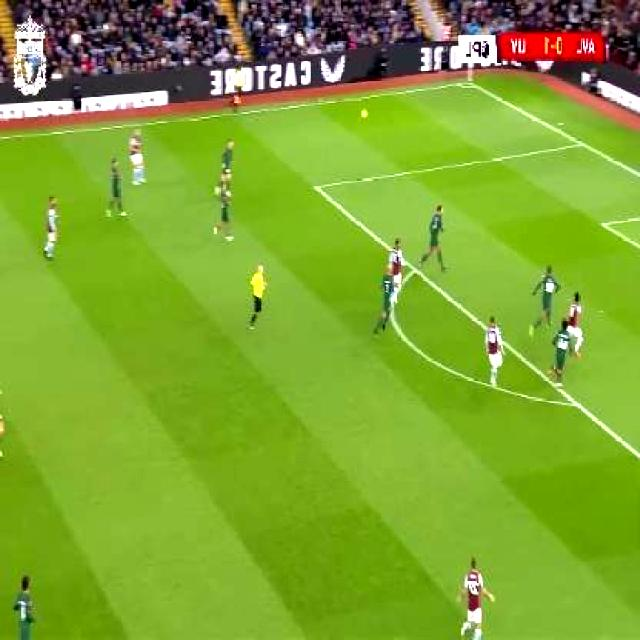bigarea_top_inner: (303, 171, 332, 203)
bigarea_top_outter: (571, 129, 594, 157)
bottom_arc_area_intersection: (562, 385, 590, 420)
corner: (455, 72, 480, 92)
smallarea_top_inner: (592, 208, 617, 238)
top_arc_area_intersection: (404, 254, 428, 283)
